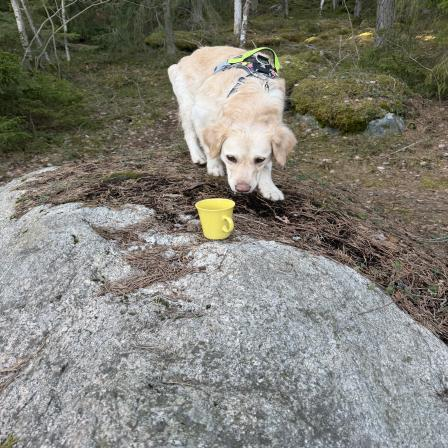yellow_cup: (196, 197, 237, 242)
